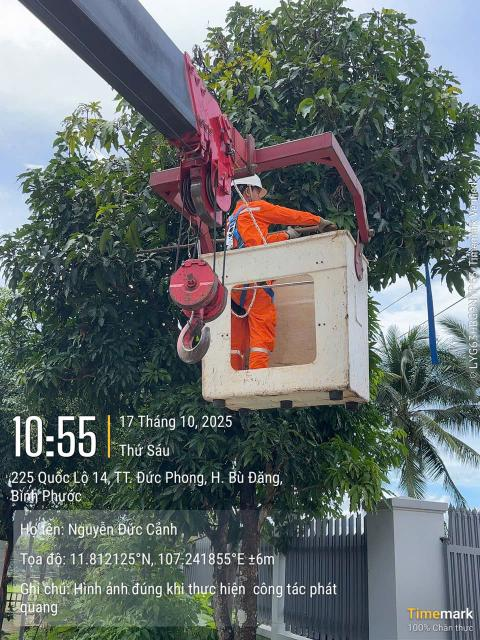gloves: (279, 221, 304, 244), (316, 212, 334, 234)
helmet: (228, 172, 269, 201)
